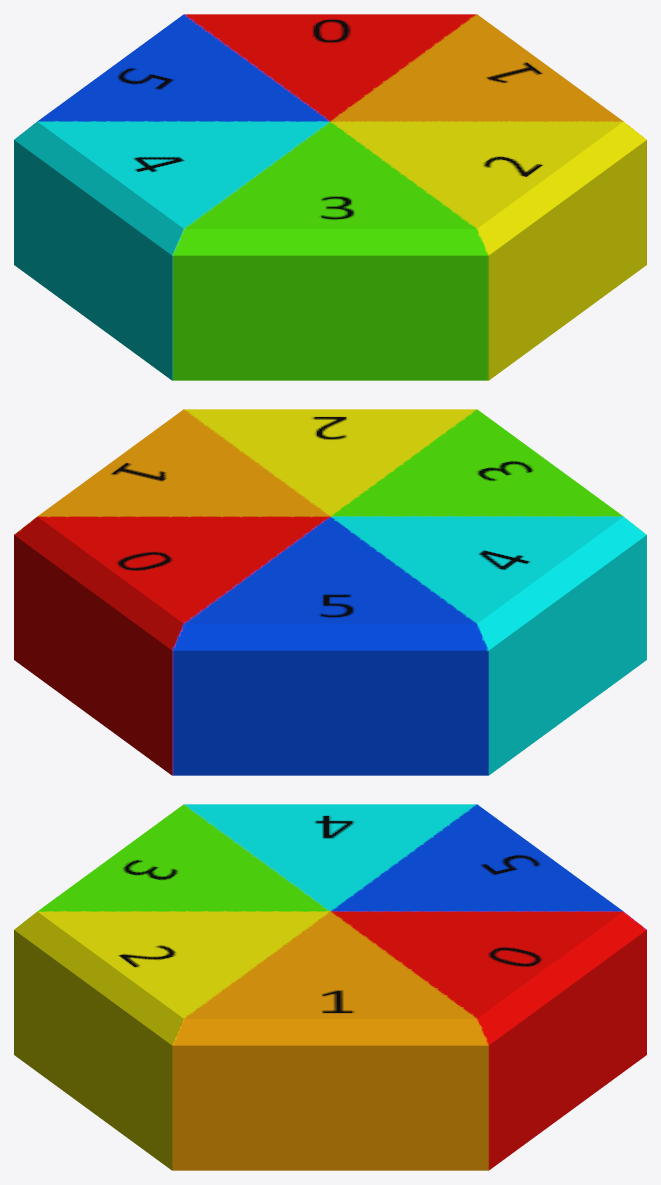
Rendered from autobahn.fbx.
The picture shows the model from 3 angles, top to bottom: view 1: azimuth 30°, elevation 25°; view 2: azimuth 150°, elevation 25°; view 3: azimuth 270°, elevation 25°; orthographic projection.
Parts seen in each view (by area): view 1: test_hexagon; view 2: test_hexagon; view 3: test_hexagon.
Boxes of the visible parts, <box> form: test_hexagon: <box>14,14,646,380</box>; test_hexagon: <box>14,409,646,775</box>; test_hexagon: <box>14,804,646,1170</box>.
Size of the model in its own units: 100 by 28.87 by 115.
Materials: 1 (1 with a texture image).
